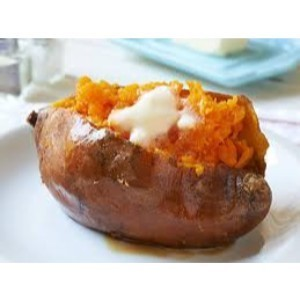sweet potato_brain food: (54, 80, 269, 210)
